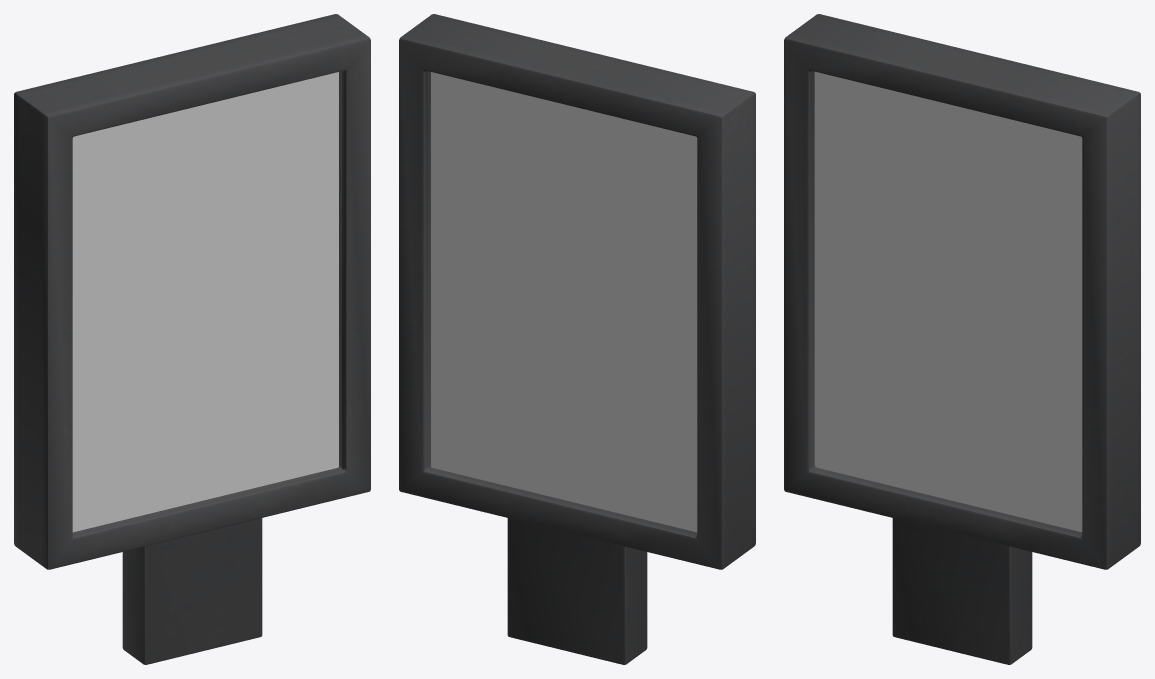
Rendered from sign.glb.
3 views of the same model, side by side, from view 1: azimuth 30°, elevation 25°; view 2: azimuth 150°, elevation 25°; view 3: azimuth 330°, elevation 25° (orthographic).
Parts seen in each view (by area): view 1: glass, your_design, frame; view 2: glass, your_design, frame; view 3: glass, your_design, frame.
Boxes of the visible parts, <box> form: glass: <box>73,71,341,534</box>; your_design: <box>72,72,338,532</box>; frame: <box>14,14,370,664</box>; glass: <box>428,71,696,534</box>; your_design: <box>431,72,697,532</box>; frame: <box>399,14,755,664</box>; glass: <box>812,71,1081,534</box>; your_design: <box>814,71,1082,532</box>; frame: <box>784,14,1140,664</box>.
Bounding box in the file's own units: 1.63 × 2.79 × 0.3028.
3 materials, 3 textured.
